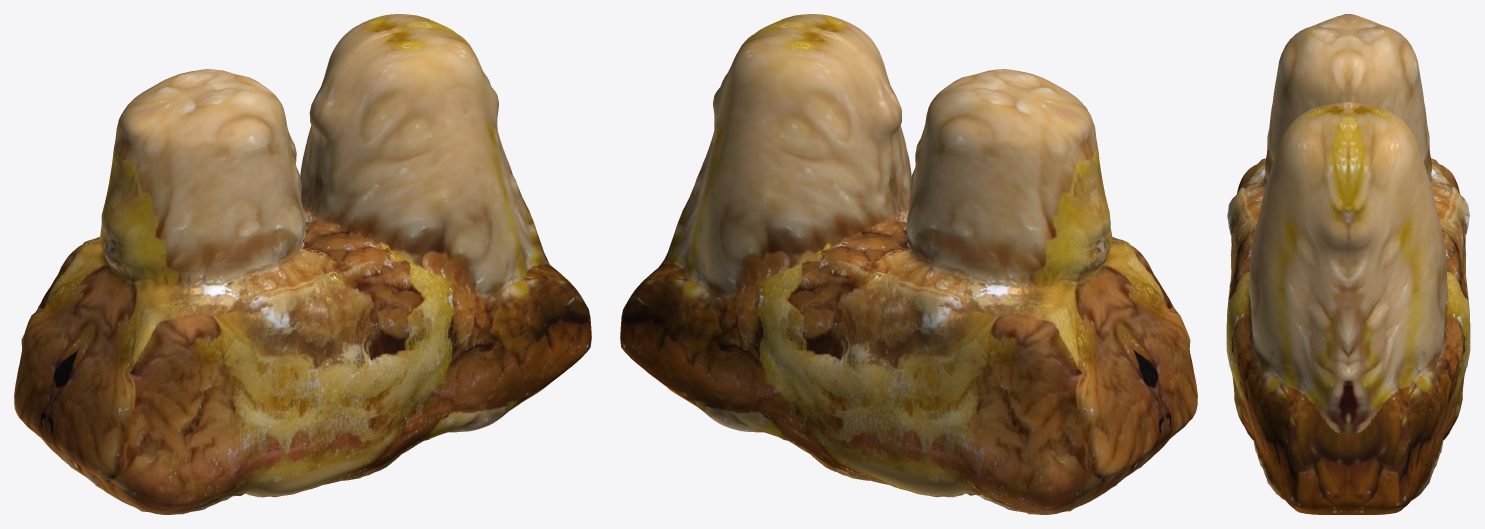
Rendered from factory_2.glb.
3 renders of one model, left to right at view 1: azimuth 30°, elevation 25°; view 2: azimuth 150°, elevation 25°; view 3: azimuth 270°, elevation 25°, orthographic. The views are drawn at different scales.
Parts seen in each view (by area): view 1: New, Invert; view 2: New, Invert; view 3: New, Invert.
Part boxes in pixels (left/top/right/bottom): New: left=14, top=14, right=591, bottom=514; Invert: left=14, top=14, right=591, bottom=514; New: left=620, top=14, right=1197, bottom=514; Invert: left=620, top=14, right=1197, bottom=514; New: left=1226, top=14, right=1470, bottom=514; Invert: left=1227, top=14, right=1469, bottom=514.
Bounding box in the file's own units: 210 × 154 × 89.73.
1 material, 1 textured.
